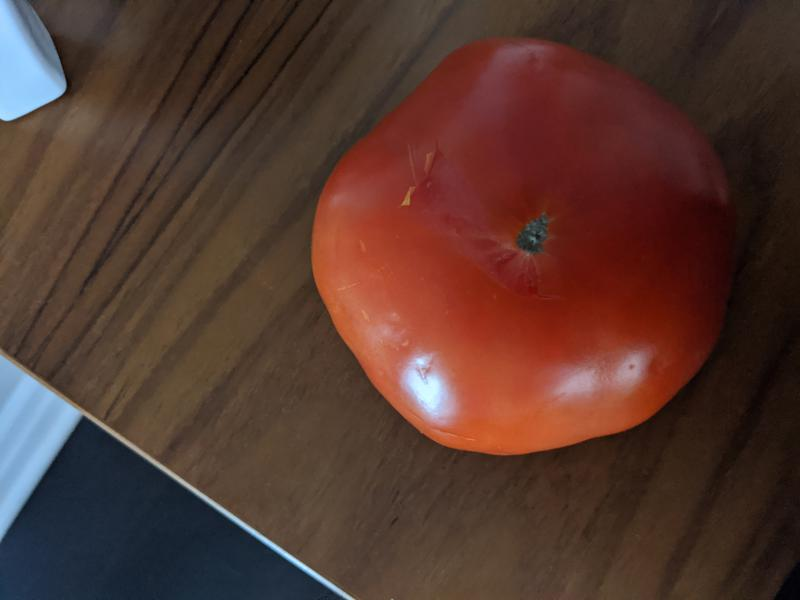tomato: (309, 35, 736, 455)
